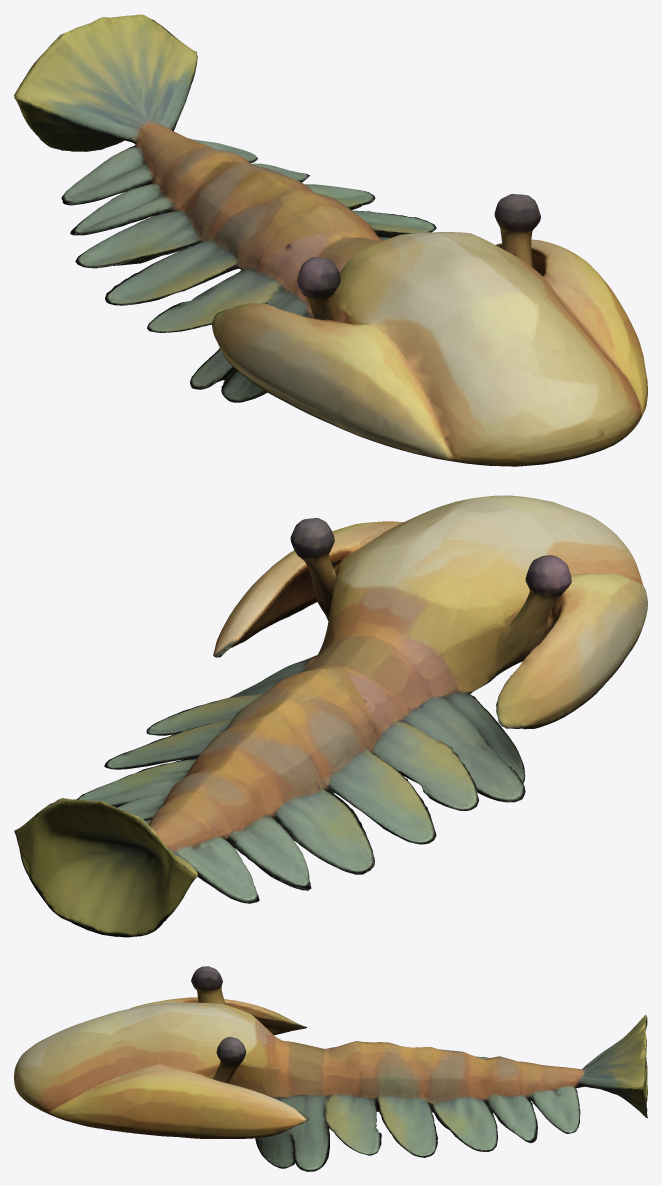
3 views of the same model, one above another, from view 1: azimuth 30°, elevation 25°; view 2: azimuth 150°, elevation 25°; view 3: azimuth 270°, elevation 25° (orthographic). The views are drawn at different scales.
Visible parts, largest first — view 1: world; view 2: world; view 3: world.
Boxes of the visible parts, left/top/right/bottom form: world: left=14, top=14, right=647, bottom=466; world: left=14, top=495, right=647, bottom=937; world: left=14, top=966, right=647, bottom=1171.
Size of the model in its own units: 0.2056 by 0.1022 by 0.5.
Materials: 1 (1 with a texture image).
